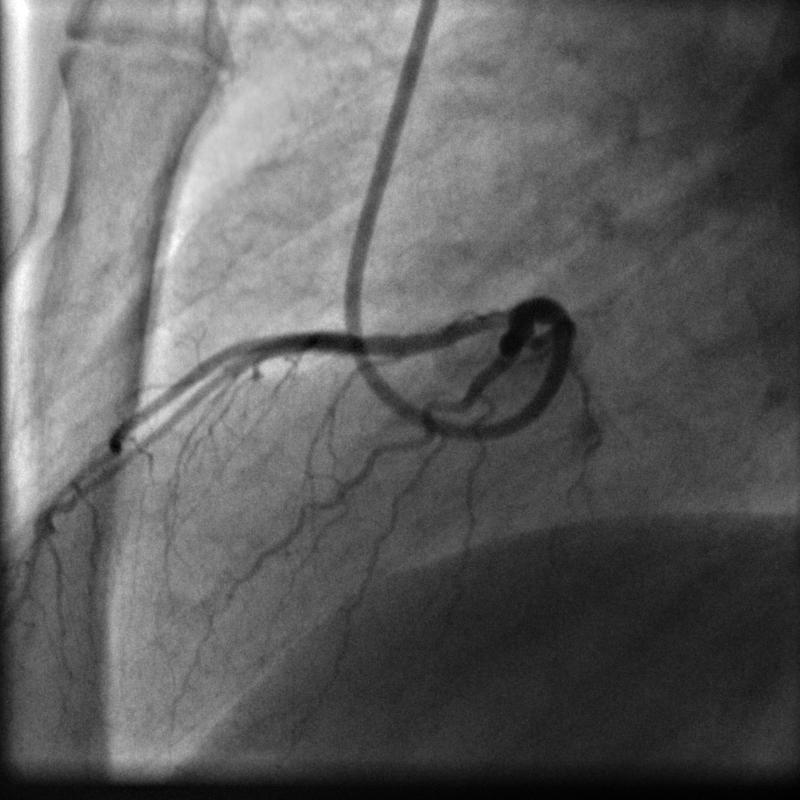Stenosis: (355, 328, 376, 361)
